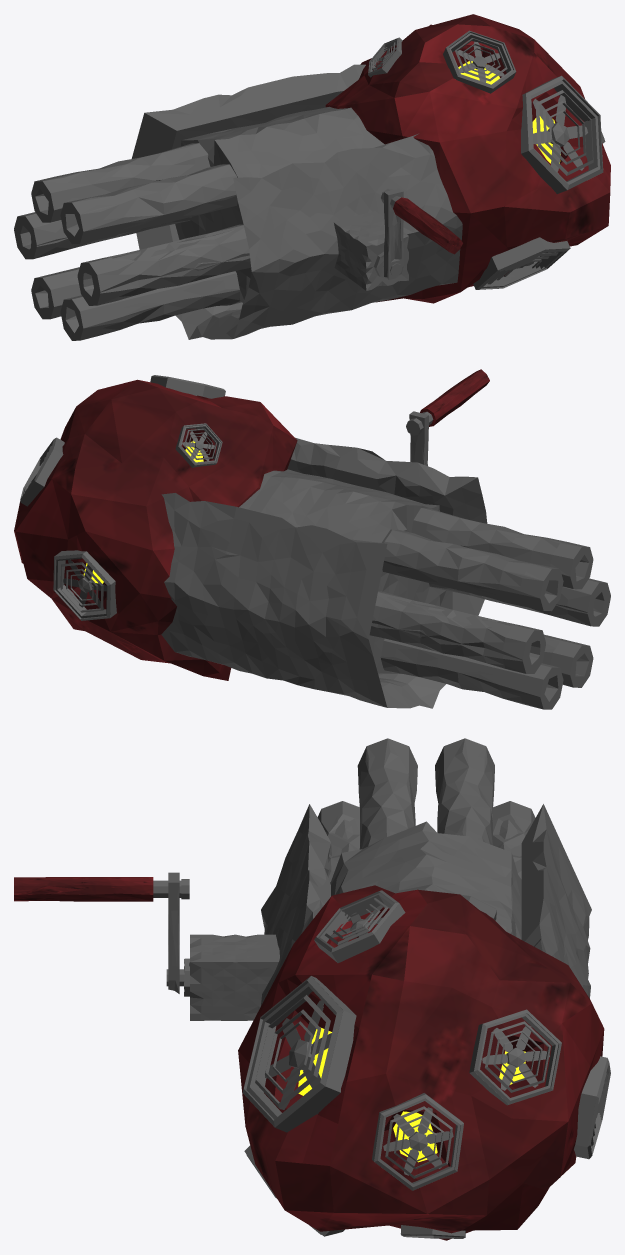
Rendered from second gun22.fbx.
The picture shows the model from 3 angles, top to bottom: view 1: azimuth 30°, elevation 25°; view 2: azimuth 150°, elevation 25°; view 3: azimuth 270°, elevation 25°; orthographic projection. The views are drawn at different scales.
Visible parts, largest first — view 1: Cylinder.002, Sphere, Cylinder.001, Cylinder, Cylinder.004, Cube.006, Cylinder.003, Cylinder.011, Sphere.001, Cylinder.006, Sphere.003, Torus.008 (+3 smaller); view 2: Cylinder.002, Sphere, Cylinder.001, Cylinder, Cylinder.003, Cylinder.009, Cylinder.008, Cylinder.006, Sphere.007, Torus.020, Cylinder.005; view 3: Sphere, Cylinder.001, Cylinder.002, Cylinder, Cylinder.004, Cube.006, Cylinder.003, Sphere.001, Cylinder.006, Sphere.005, Cylinder.009, Cylinder.008 (+8 smaller).
Part boxes in pixels (box(x1,y1,x2,y2)): Cylinder.002: box(131, 64, 462, 339); Sphere: box(325, 14, 610, 303); Cylinder.001: box(14, 143, 251, 340); Cylinder: box(175, 106, 384, 305); Cylinder.004: box(521, 75, 603, 193); Cube.006: box(333, 211, 408, 290); Cylinder.003: box(381, 188, 462, 279); Cylinder.011: box(473, 237, 570, 289); Sphere.001: box(533, 95, 587, 171); Cylinder.006: box(443, 33, 515, 93); Sphere.003: box(457, 41, 504, 82); Torus.008: box(446, 30, 516, 88); Cylinder.002: box(161, 437, 487, 708); Sphere: box(14, 379, 297, 680); Cylinder.001: box(369, 508, 610, 709); Cylinder: box(239, 469, 446, 673); Cylinder.003: box(406, 369, 489, 465); Cylinder.009: box(53, 550, 116, 620); Cylinder.008: box(20, 438, 64, 506); Cylinder.006: box(150, 376, 225, 398); Sphere.007: box(63, 559, 106, 609); Torus.020: box(53, 554, 110, 620); Cylinder.005: box(175, 423, 220, 467); Sphere: box(238, 885, 604, 1240); Cylinder.001: box(317, 738, 535, 882); Cylinder.002: box(261, 804, 591, 1005); Cylinder: box(330, 821, 521, 939); Cylinder.004: box(242, 976, 356, 1132); Cube.006: box(184, 934, 279, 1020); Cylinder.003: box(14, 872, 189, 993); Sphere.001: box(265, 1000, 331, 1109); Cylinder.006: box(314, 893, 405, 962); Sphere.005: box(383, 1107, 453, 1175); Cylinder.009: box(574, 1056, 608, 1159); Cylinder.008: box(469, 1013, 561, 1105).
Bounding box in the file's own units: 669 × 320 × 495.
Materials: 6 (2 with a texture image).
